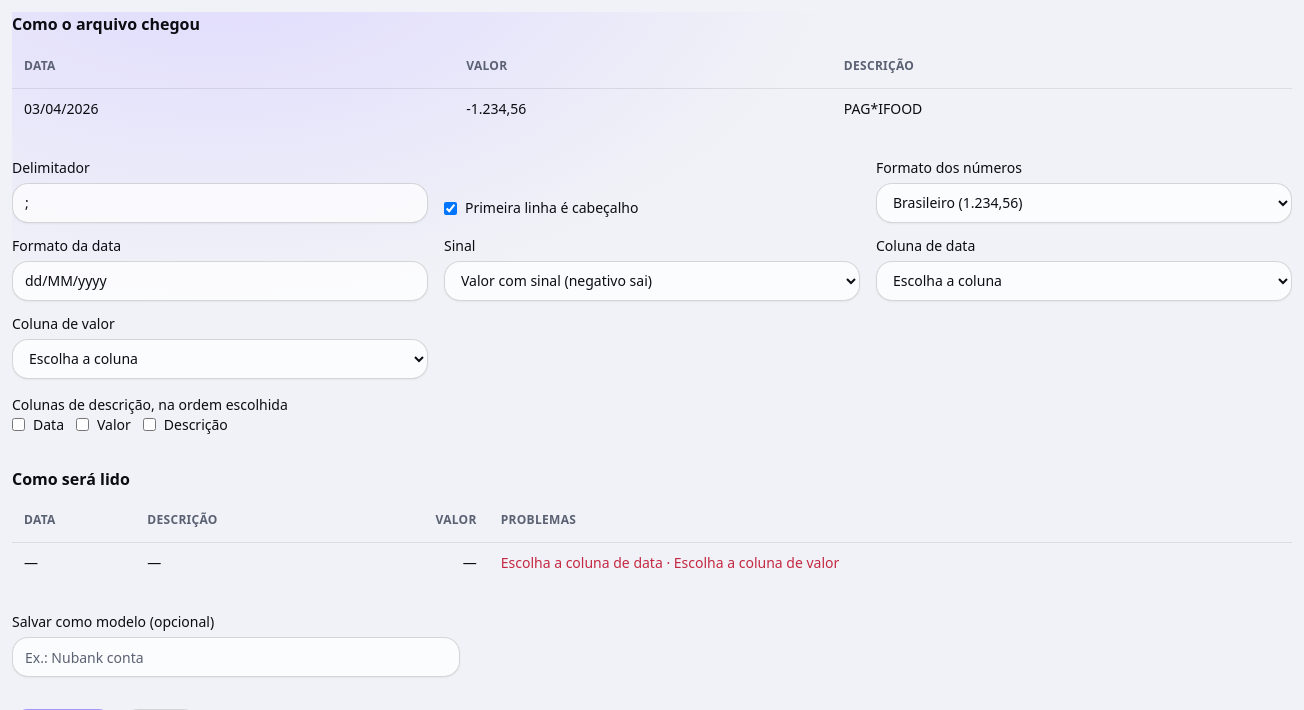
MappingStep › switching to debit and credit asks for both columns
Select "Colunas separadas de débito e crédito" in the dropdown labelled "Sinal": coordinates (652, 280) x1=444 y1=260 x2=860 y2=300
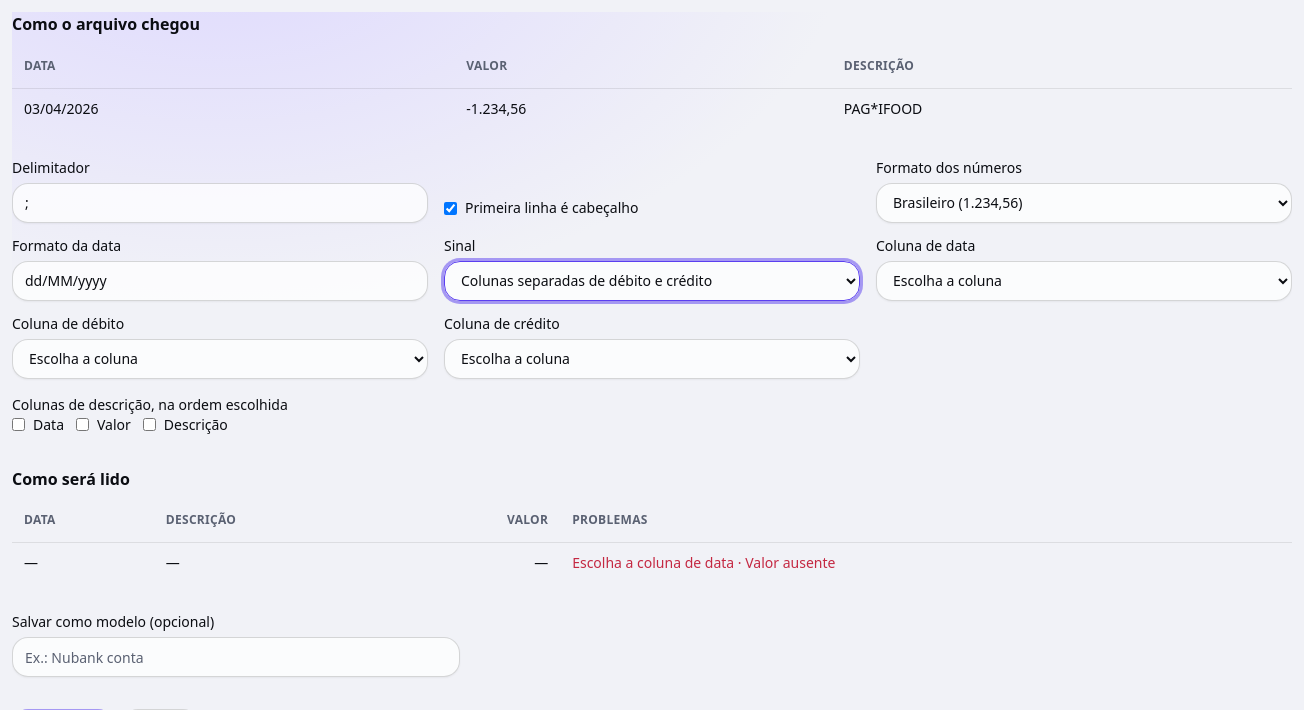
Expected: the dropdown labelled "Coluna de débito" is shown, x1=12 y1=338 x2=428 y2=378
Expected: the dropdown labelled "Coluna de crédito" is shown, x1=444 y1=338 x2=860 y2=378
Expected: the label labelled "Coluna de valor" is gone
